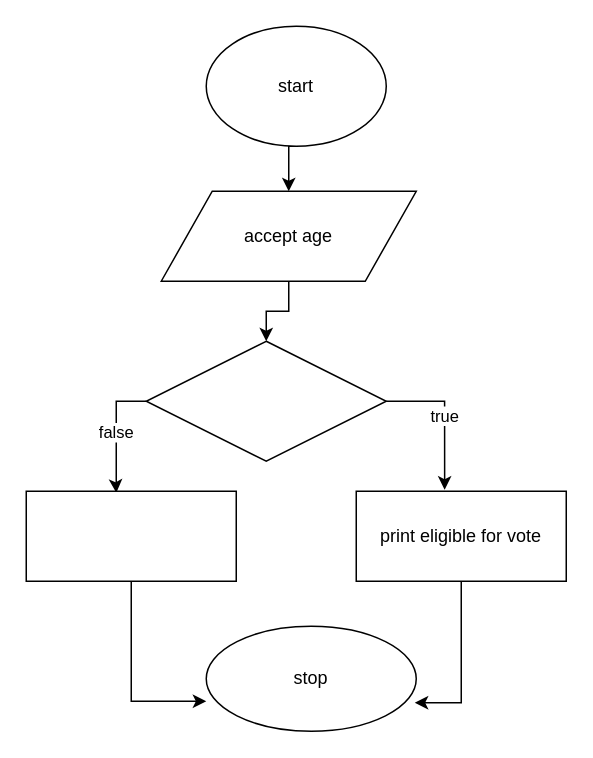
Image size: 593x758. Some labels were removed from this diagram. Here are the shapes that lost their labels. From the top down, the centre of each, then its label:
At pixel 265 400: "age>=18".
At pixel 130 535: "print not eligible for vote".
